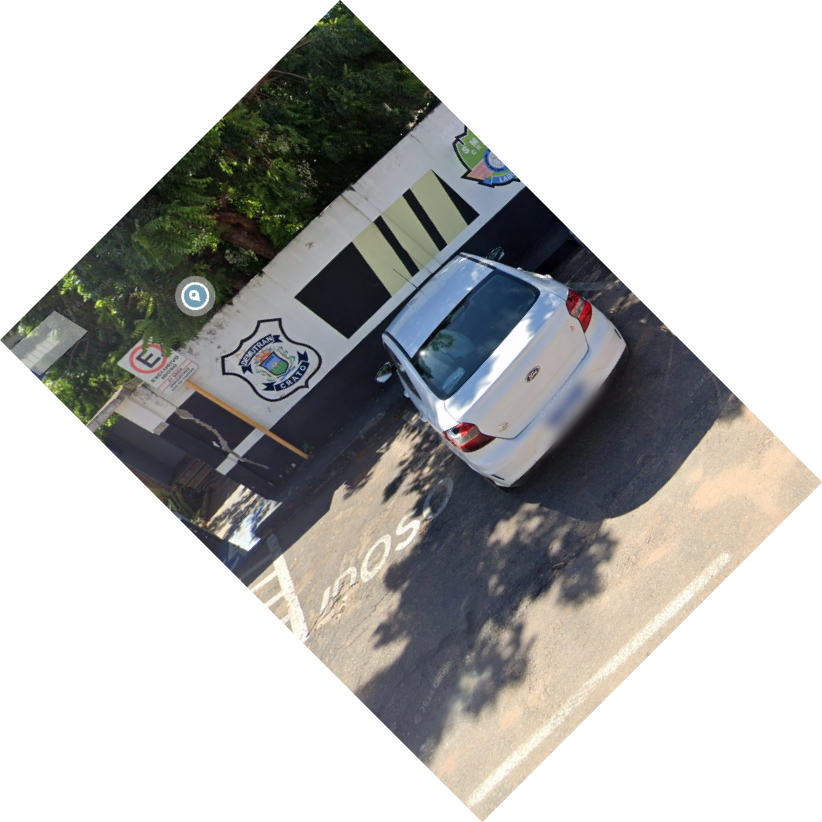car: (363, 241, 643, 495)
